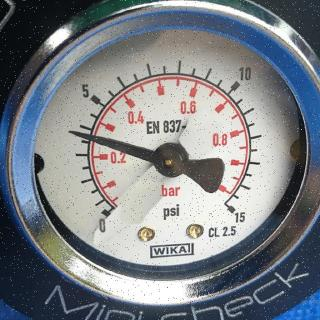gauge: (0, 0, 320, 320), (152, 140, 188, 178), (96, 195, 128, 225), (218, 195, 246, 227), (63, 126, 81, 140)
